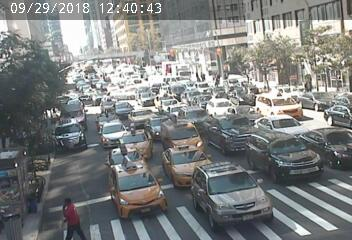car: (107, 162, 165, 216), (194, 168, 256, 218), (254, 135, 309, 180), (162, 144, 209, 179), (210, 118, 259, 151), (313, 129, 350, 169), (262, 117, 307, 142), (159, 122, 200, 146), (260, 92, 298, 113), (62, 105, 90, 129), (112, 148, 145, 168), (329, 96, 352, 122), (122, 135, 152, 153), (59, 129, 87, 148), (99, 126, 125, 144), (301, 91, 325, 109), (234, 102, 258, 120), (179, 107, 200, 122), (209, 100, 230, 113), (139, 93, 158, 107), (99, 115, 121, 127), (132, 110, 155, 121), (115, 101, 133, 112), (178, 89, 193, 99), (195, 95, 209, 105), (101, 101, 113, 110), (161, 101, 177, 107), (168, 107, 179, 113)
